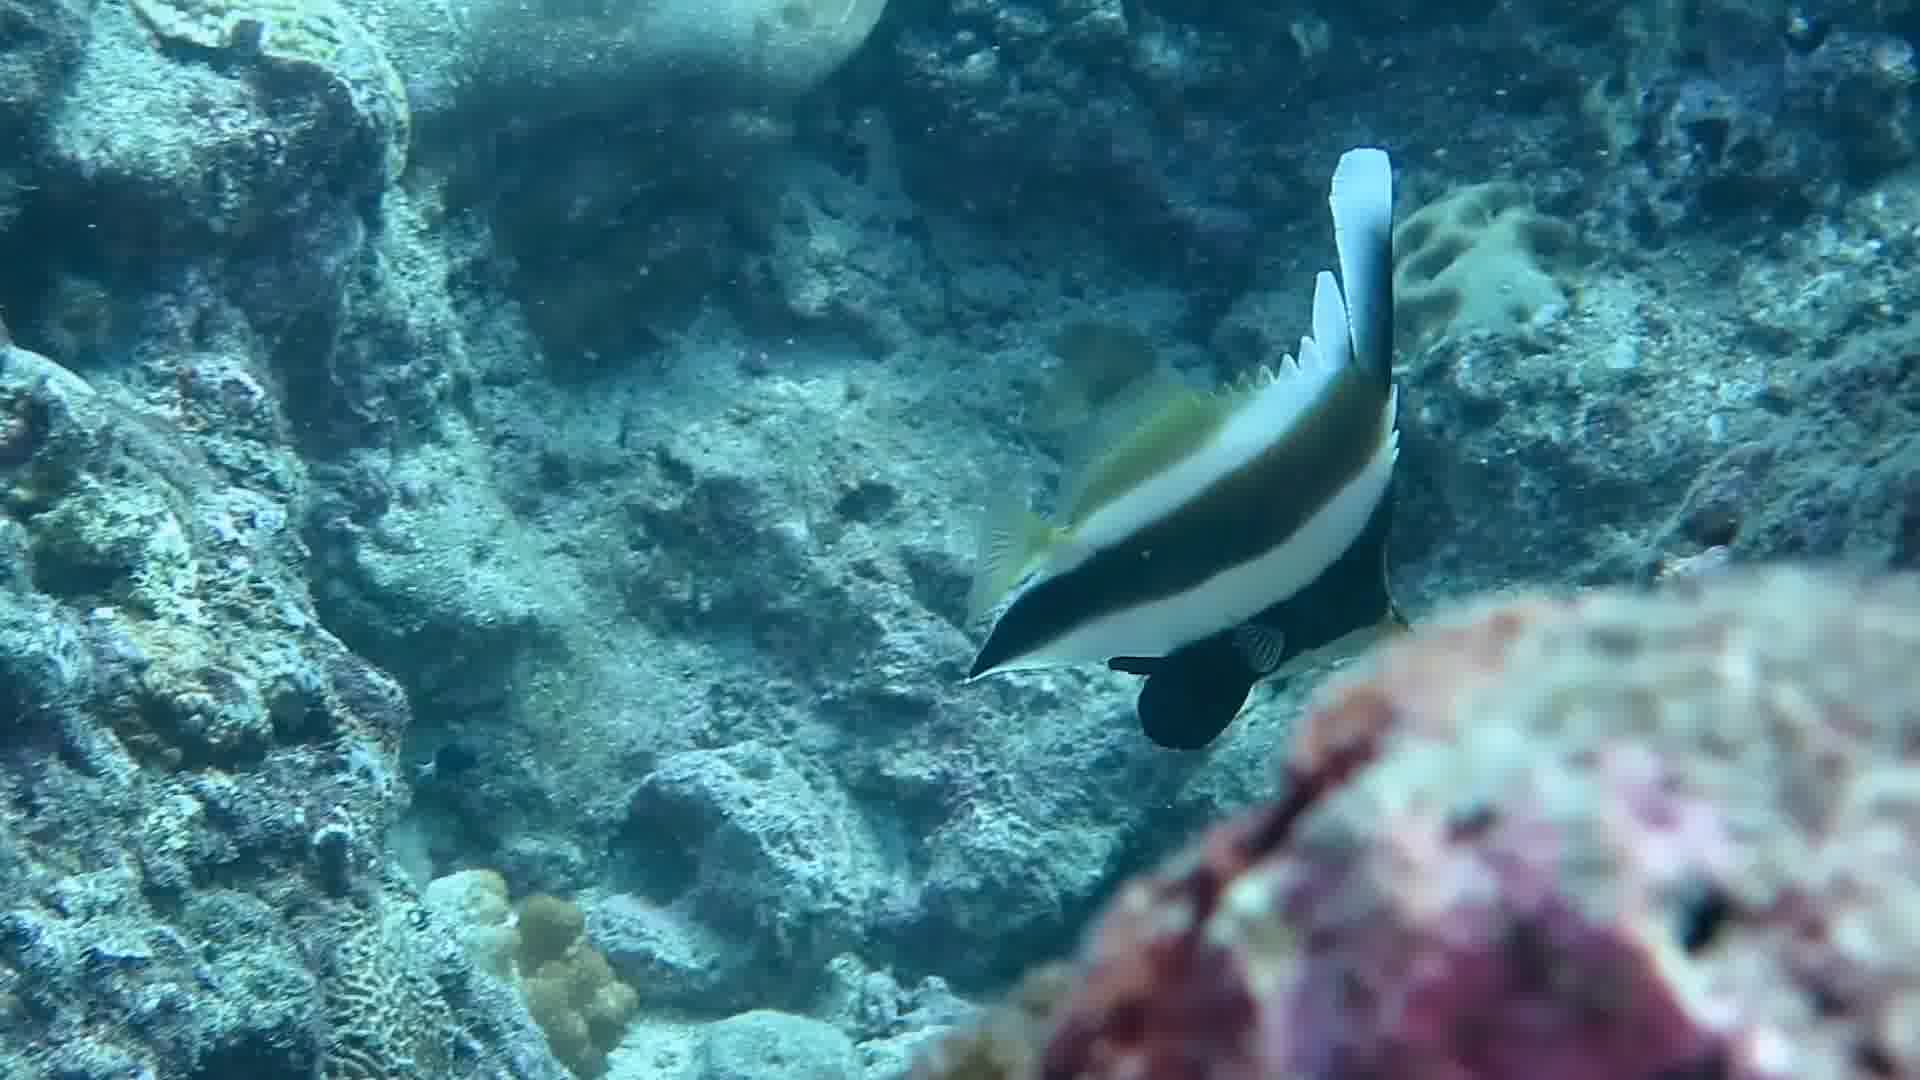Heniochus chrysostomus: (943, 32, 1433, 778)
